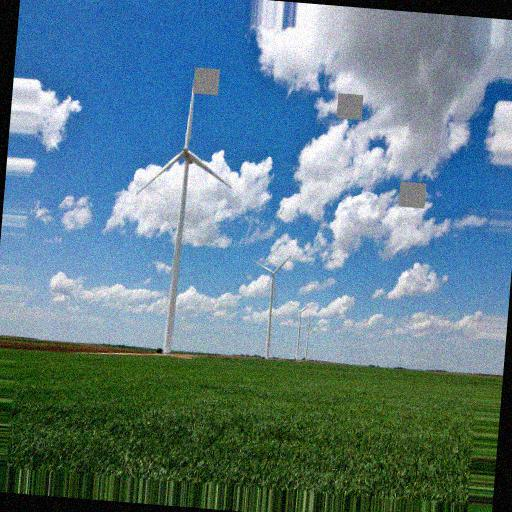wind turbine: (137, 79, 233, 352), (247, 252, 291, 358)
